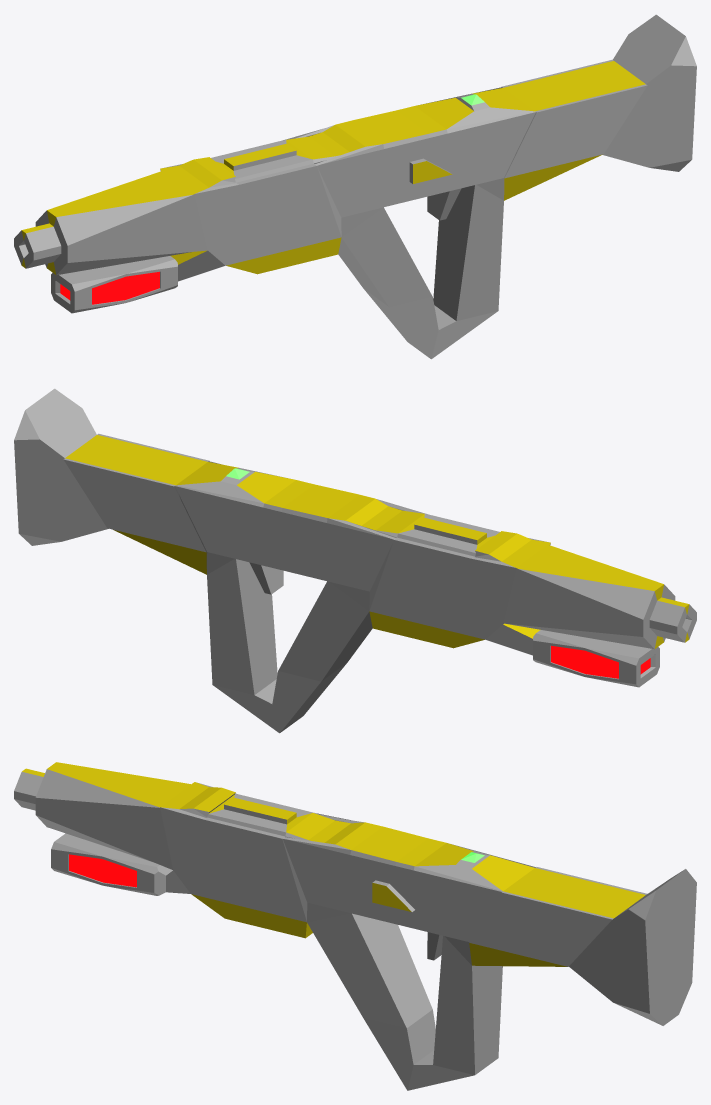
The model's file is EnergyRifle.fbx.
The picture shows the model from 3 angles, top to bottom: view 1: azimuth 30°, elevation 25°; view 2: azimuth 150°, elevation 25°; view 3: azimuth 330°, elevation 25°; orthographic projection.
Parts seen in each view (by area): view 1: EnergyRifle; view 2: EnergyRifle; view 3: EnergyRifle.
Boxes of the visible parts, box(x1,y1,x2,y2) form: EnergyRifle: box(14, 14, 696, 359); EnergyRifle: box(14, 388, 696, 733); EnergyRifle: box(14, 762, 696, 1090).
Bounding box in the file's own units: 2332 × 909 × 323.
